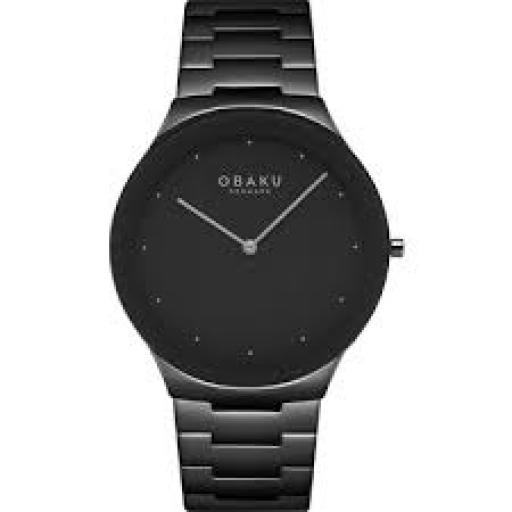KolSaati: (66, 0, 431, 506)
